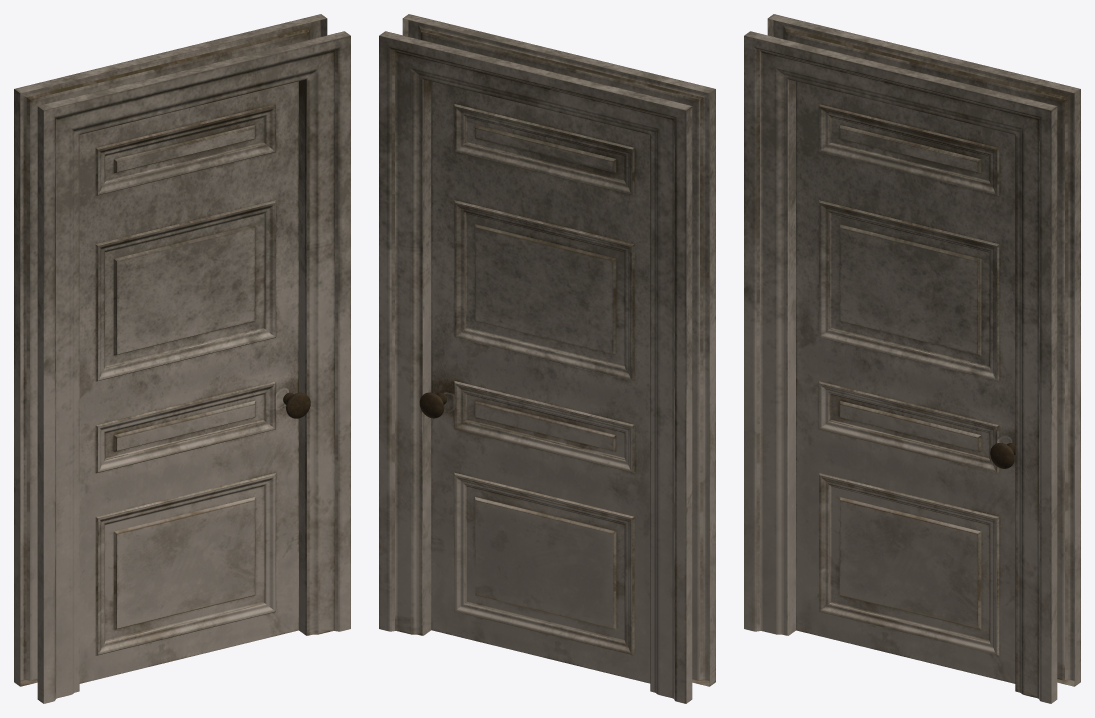
Rendered from ward_door.glb.
3 views of the same model, side by side, from view 1: azimuth 30°, elevation 25°; view 2: azimuth 150°, elevation 25°; view 3: azimuth 330°, elevation 25° (orthographic).
Parts seen in each view (by area): view 1: ward_door; view 2: ward_door; view 3: ward_door.
Boxes of the visible parts, x1,y1,x2,y2 form: ward_door: (14,14,350,703); ward_door: (379,14,715,703); ward_door: (744,14,1080,703).
Size of the model in its own units: 1.21 by 2.23 by 0.2046.
Materials: 3 (3 with a texture image).
